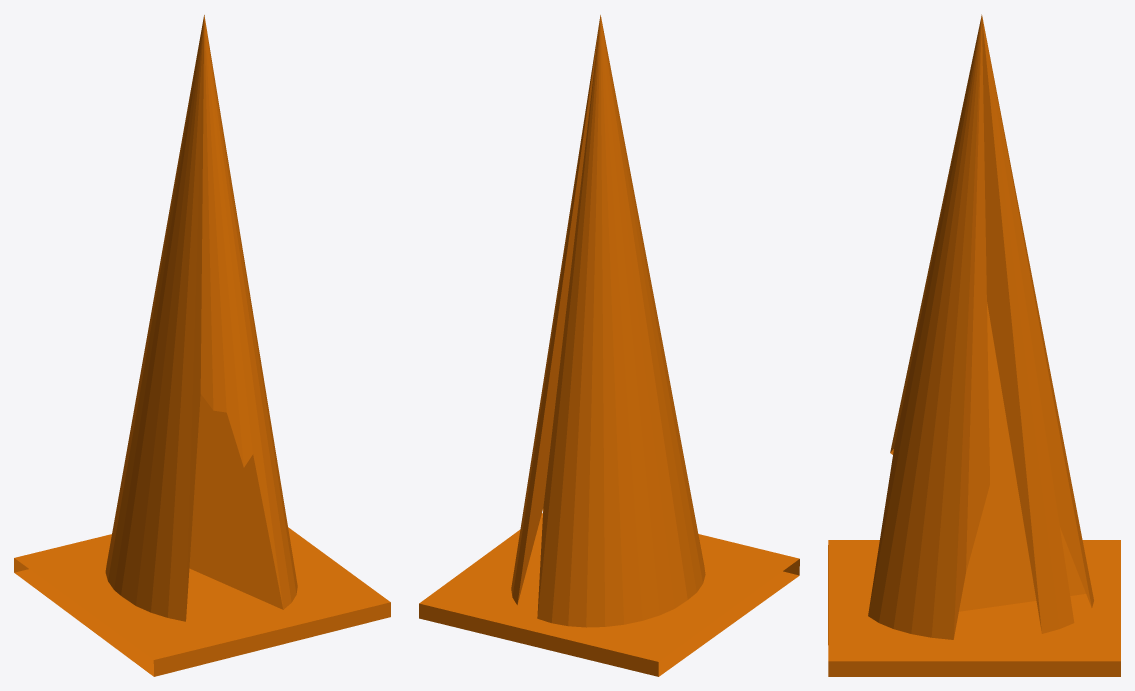
File: cono.fbx
The picture shows the model from 3 angles, left to right: view 1: azimuth 30°, elevation 25°; view 2: azimuth 150°, elevation 25°; view 3: azimuth 270°, elevation 25°; orthographic projection. The views are drawn at different scales.
Visible parts, largest first — view 1: Cilindro.003; view 2: Cilindro.003; view 3: Cilindro.003.
Boxes of the visible parts, bbox=[...] form: Cilindro.003: bbox=[14, 15, 390, 676]; Cilindro.003: bbox=[419, 15, 799, 676]; Cilindro.003: bbox=[828, 14, 1120, 676].
Size of the model in its own units: 201 by 469 by 205.
